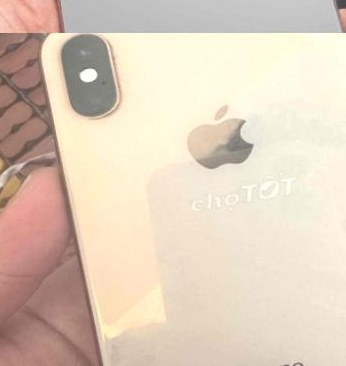scratch: (99, 34, 133, 102), (69, 33, 98, 40)
